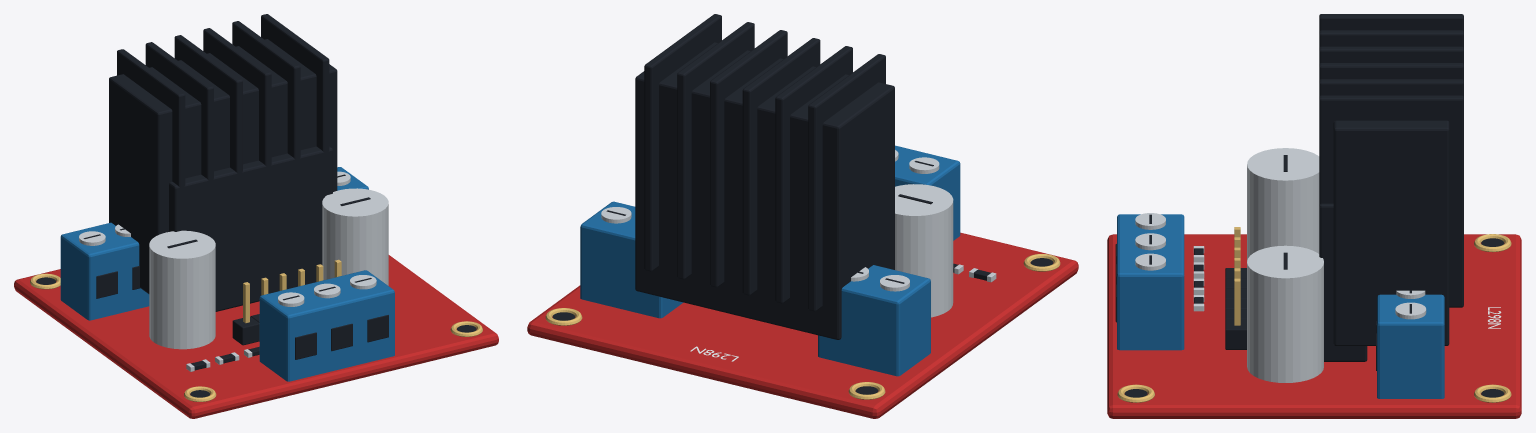
File: motor-driver.glb
The picture shows the model from 3 angles, left to right: view 1: azimuth 30°, elevation 25°; view 2: azimuth 150°, elevation 25°; view 3: azimuth 270°, elevation 25°; orthographic projection. The views are drawn at different scales.
Parts seen in each view (by area): view 1: Static body • black, Static body • redPCB, Static body • blue, Static body • silver, Static body • gold; view 2: Static body • black, Static body • redPCB, Static body • blue, Static body • silver, Static body • gold; view 3: Static body • black, Static body • redPCB, Static body • silver, Static body • blue, Static body • gold.
Part boxes in pixels (x1,y1,x2,y2): Static body • black: (36, 14, 476, 397); Static body • redPCB: (14, 255, 498, 418); Static body • blue: (60, 167, 394, 381); Static body • silver: (79, 171, 388, 371); Static body • gold: (30, 259, 482, 401); Static body • black: (552, 14, 1053, 394); Static body • redPCB: (527, 232, 1078, 418); Static body • blue: (580, 145, 960, 376); Static body • silver: (601, 150, 996, 317); Static body • gold: (545, 254, 1060, 399); Static body • black: (1115, 14, 1504, 397); Static body • redPCB: (1107, 234, 1521, 418); Static body • silver: (1135, 148, 1426, 382); Static body • blue: (1117, 214, 1444, 398); Static body • gold: (1117, 227, 1511, 402).
Bounding box in the file's own units: 43 × 31.8 × 43.
